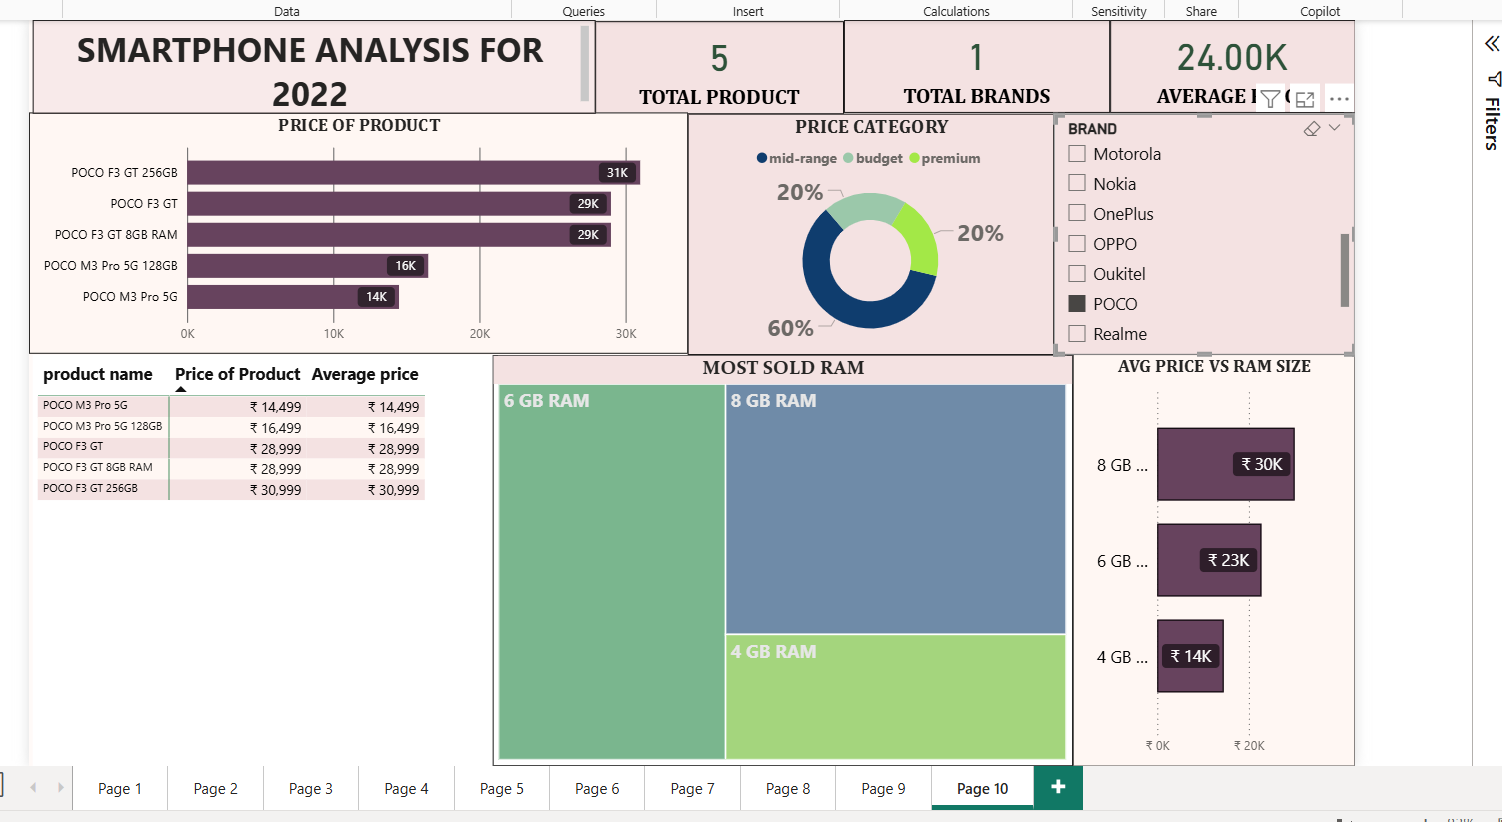

What the dashboard file says about the page in this screenshot:
{"tool":"powerbi","page":{"name":"Page 10","canvas":[1280,720],"ordinal":9},"visuals":[{"type":"card","fields":{"Values":["CountNonNull(mysmartprice.product name)"]},"box":[546.5,1.2,240.1,89.3],"z":0},{"type":"card","fields":{"Values":["Count(mysmartprice.brand)"]},"box":[786.6,0,257,89.3],"z":1000},{"type":"card","fields":{"Values":["mysmartprice.avgpop"]},"box":[1043.6,0,236.5,89.3],"z":2000},{"type":"barChart","title":"PRICE OF PRODUCT","fields":{"Category":["mysmartprice.product name"],"Y":["Max(mysmartprice.Price of product(available))"]},"box":[0,89.3,635.8,232.8],"z":3000},{"type":"pivotTable","fields":{"Rows":["mysmartprice.product name"],"Values":["Sum(mysmartprice.Price of product(available))","mysmartprice.avgpop"]},"box":[3.6,323.3,456,396.9],"z":4000},{"type":"slicer","fields":{"Values":["mysmartprice.brand"]},"box":[989.3,90.5,290.8,232.8],"z":5000},{"type":"donutChart","title":"PRICE CATEGORY ","fields":{"Y":["CountNonNull(mysmartprice.product name)"],"Category":["mysmartprice.price_cat"]},"box":[635.8,90.5,353.5,232.8],"z":6000},{"type":"barChart","title":"AVG PRICE VS RAM SIZE","fields":{"Category":["mysmartprice.ram of phone"],"Y":["Avg(mysmartprice.pop)"]},"box":[1007.4,322.1,272.7,398.1],"z":7000},{"type":"treemap","title":"MOST SOLD RAM","fields":{"Group":["mysmartprice.ram of phone"],"Values":["CountNonNull(mysmartprice.brand)"]},"box":[447.6,323.3,559.8,396.9],"z":8000},{"type":"textbox","box":[3.6,0,542.9,90.5],"z":9000}]}

Visuals, with their boxes on the page's 1280x720 design canvas (x1, y1, x2, y2). These are canvas units, not pixel positions in the 1502x822 screenshot, which may show the page scaled, cropped or inside an application window:
card - CountNonNull(mysmartprice.product name): {"left": 546, "top": 1, "right": 787, "bottom": 90}
card - Count(mysmartprice.brand): {"left": 787, "top": 0, "right": 1044, "bottom": 89}
card - mysmartprice.avgpop: {"left": 1044, "top": 0, "right": 1280, "bottom": 89}
"PRICE OF PRODUCT" barChart: {"left": 0, "top": 89, "right": 636, "bottom": 322}
pivotTable - mysmartprice.product name x Sum(mysmartprice.Price of product(available)): {"left": 4, "top": 323, "right": 460, "bottom": 720}
slicer - mysmartprice.brand: {"left": 989, "top": 90, "right": 1280, "bottom": 323}
"PRICE CATEGORY " donutChart: {"left": 636, "top": 90, "right": 989, "bottom": 323}
"AVG PRICE VS RAM SIZE" barChart: {"left": 1007, "top": 322, "right": 1280, "bottom": 720}
"MOST SOLD RAM" treemap: {"left": 448, "top": 323, "right": 1007, "bottom": 720}
textbox: {"left": 4, "top": 0, "right": 546, "bottom": 90}
